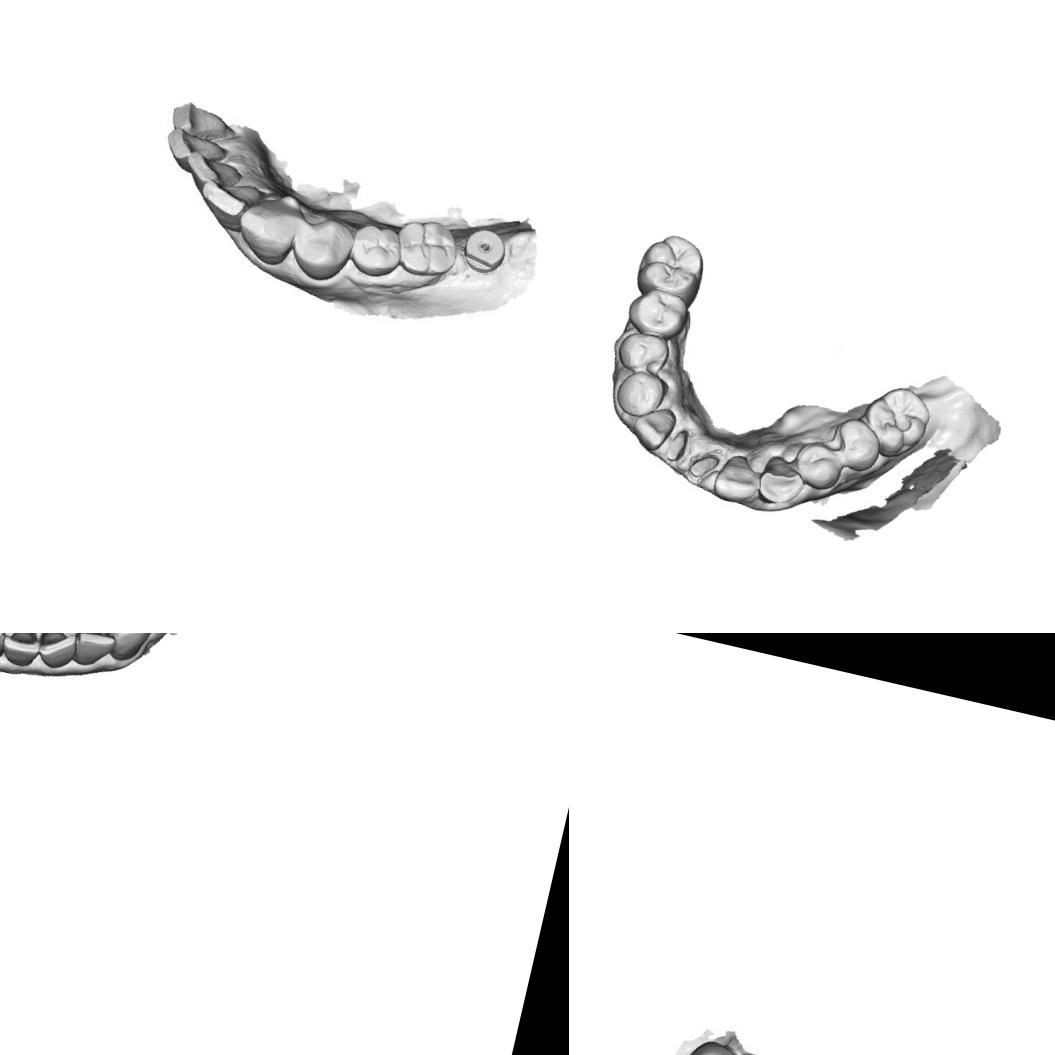canine: (195, 167, 266, 236), (612, 366, 671, 423), (754, 452, 810, 510), (94, 633, 156, 667)
crown: (686, 448, 722, 482), (664, 426, 690, 465)
implant: (460, 222, 509, 274)
incisor: (709, 450, 766, 508), (164, 128, 227, 177), (188, 146, 247, 193), (628, 402, 679, 455), (69, 633, 120, 672), (34, 633, 80, 673), (0, 633, 45, 670)
molar: (384, 212, 466, 302), (854, 379, 936, 465), (632, 227, 710, 312), (342, 220, 404, 288), (670, 1034, 756, 1055)
premolar: (233, 187, 303, 269), (288, 208, 357, 288), (623, 282, 692, 342), (826, 414, 886, 476), (789, 436, 847, 494), (613, 327, 673, 379)
